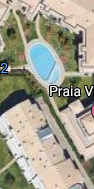pool: (29, 44, 61, 84)
